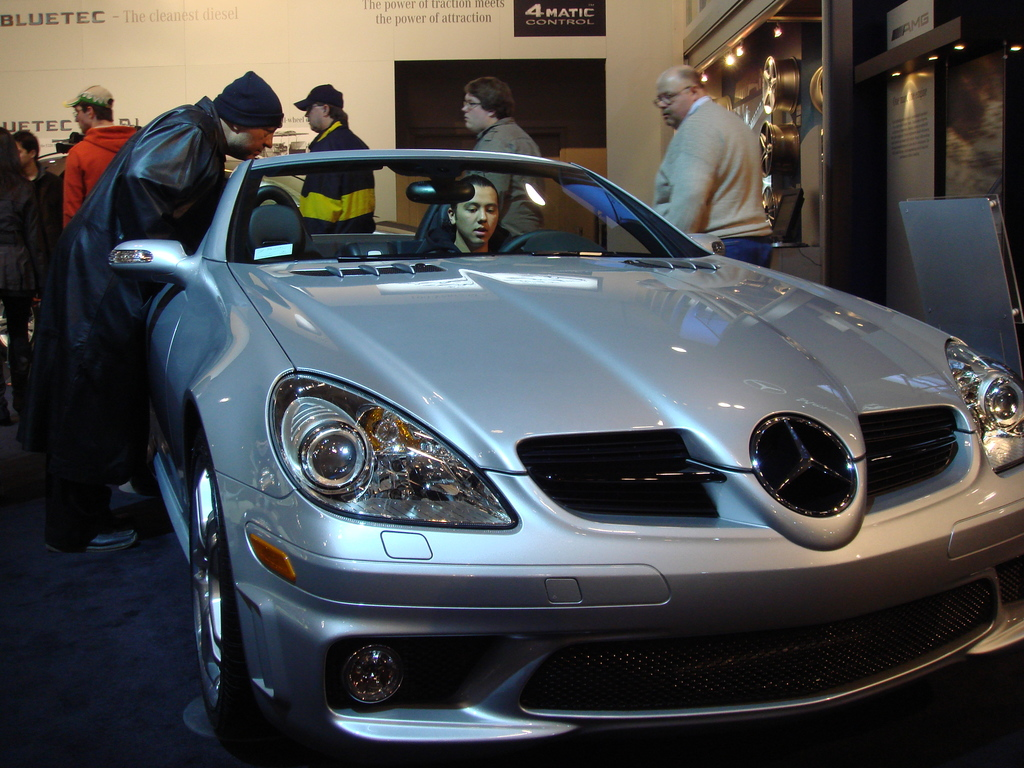person: (59, 83, 142, 230)
